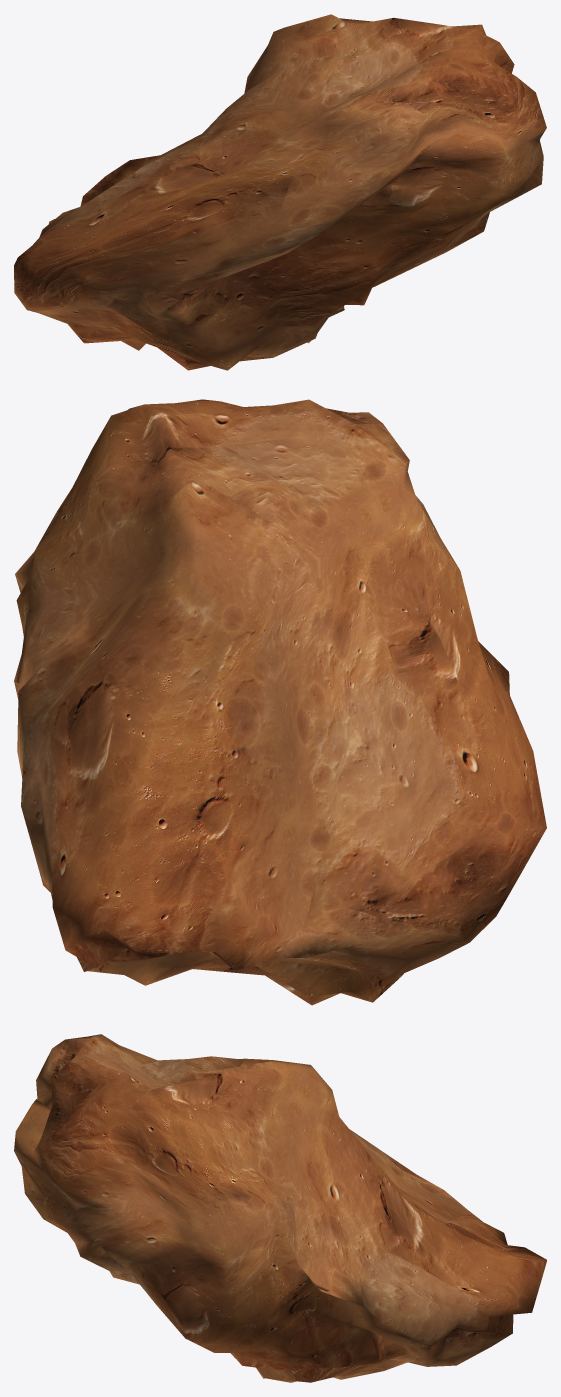
File: Asteroid_05_L1.FBX
The picture shows the model from 3 angles, top to bottom: view 1: azimuth 30°, elevation 25°; view 2: azimuth 150°, elevation 25°; view 3: azimuth 270°, elevation 25°; orthographic projection. The views are drawn at different scales.
Visible parts, largest first — view 1: Asteroid; view 2: Asteroid; view 3: Asteroid.
Part boxes in pixels (x1,y1,x2,y2): Asteroid: (14, 14, 546, 370); Asteroid: (14, 399, 546, 1005); Asteroid: (14, 1034, 546, 1382).
Size of the model in its own units: 3 by 2.19 by 3.
